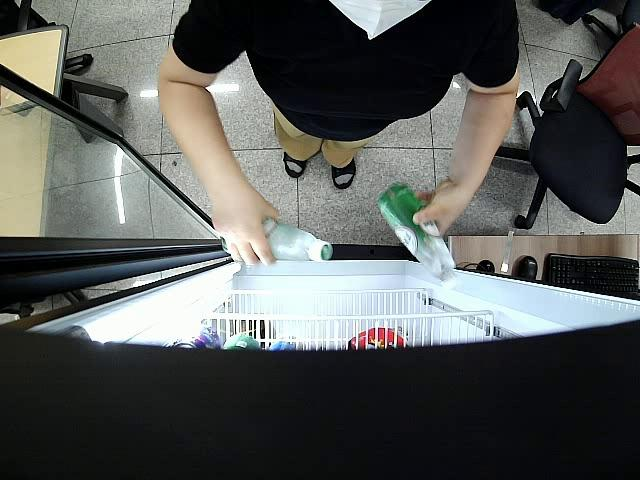00_hand: (211, 184, 279, 269), (409, 179, 466, 239)
18_trevi: (374, 183, 460, 287), (256, 220, 331, 263)
